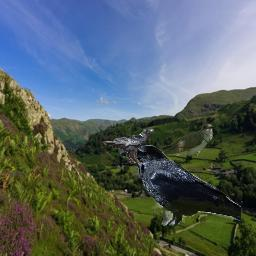Crow: (118, 145, 241, 226), (101, 128, 154, 164)
Cuckoo: (130, 123, 213, 161)
